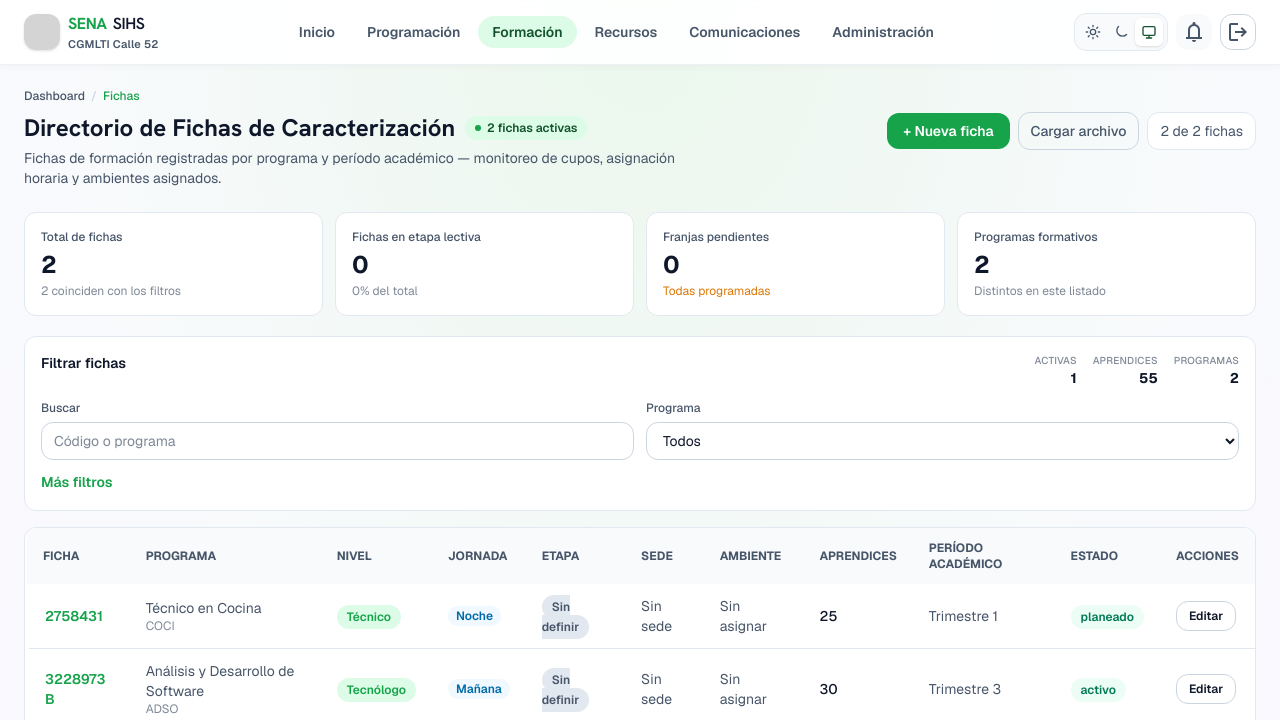
Test case: Fichas › clic en una fila abre el drawer con programa, jornadas y aprendices
Click the button "3228973 B" at x=79, y=689, box [45,669,114,709]
(page scrolled)
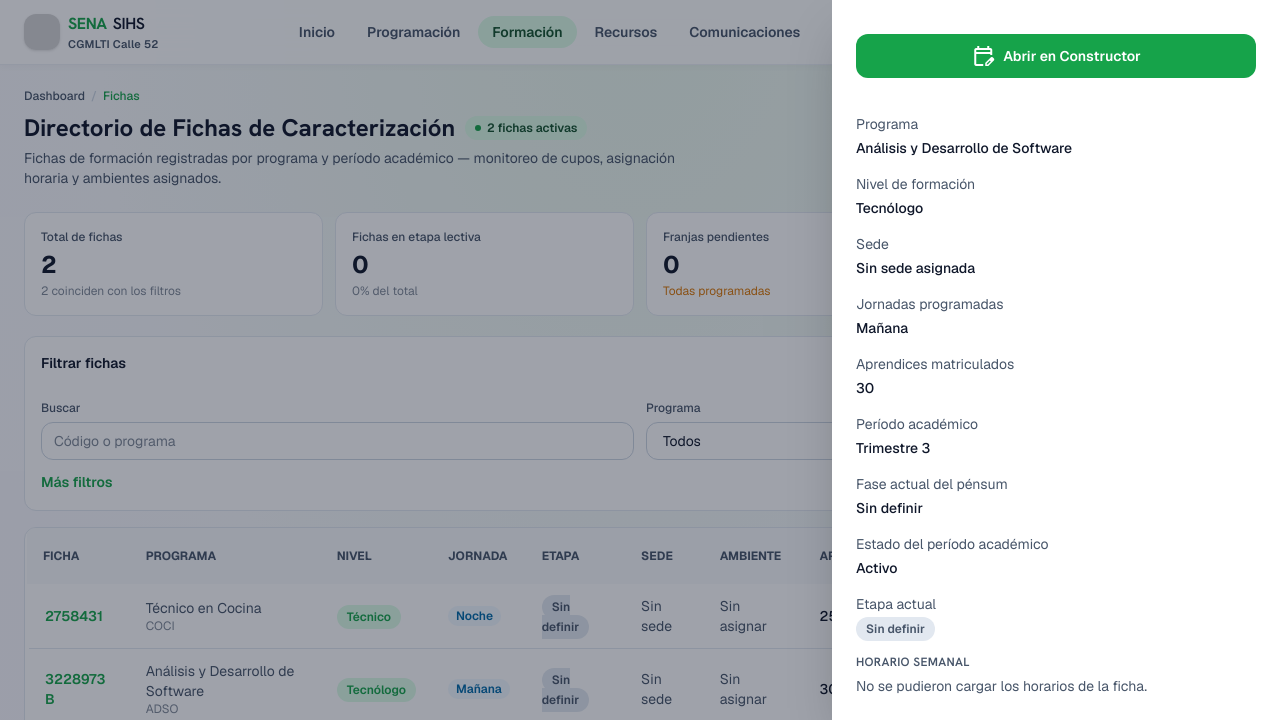
Check: the text "Análisis y Desarrollo de Software" is shown, box [856,139,1072,157]
Check: the text "Mañana" is shown, box [856,319,908,337]
Check: the text "30" is shown, box [856,379,874,397]
